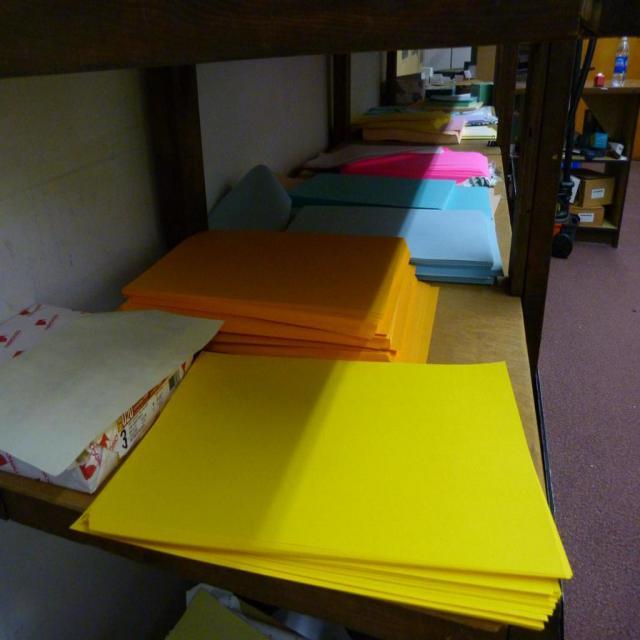Box: (567, 166, 614, 200), (570, 206, 604, 228)
